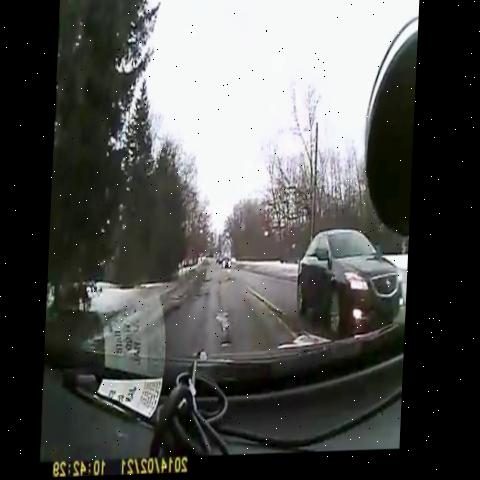pothole: (211, 305, 245, 356), (196, 282, 217, 310), (200, 273, 218, 293)
